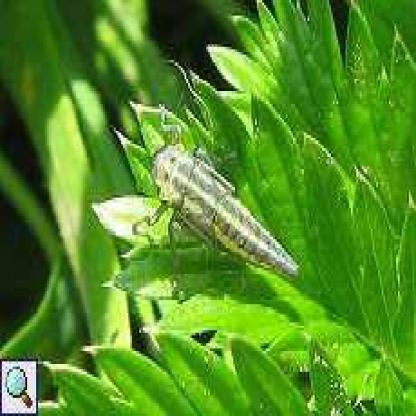Green-Leafhopper: (138, 108, 299, 287)
